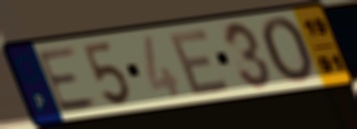3: (222, 19, 273, 92)
4: (141, 33, 182, 101)
5: (79, 40, 133, 106)
E: (34, 44, 102, 115), (167, 26, 234, 98)
O: (259, 15, 318, 86)
